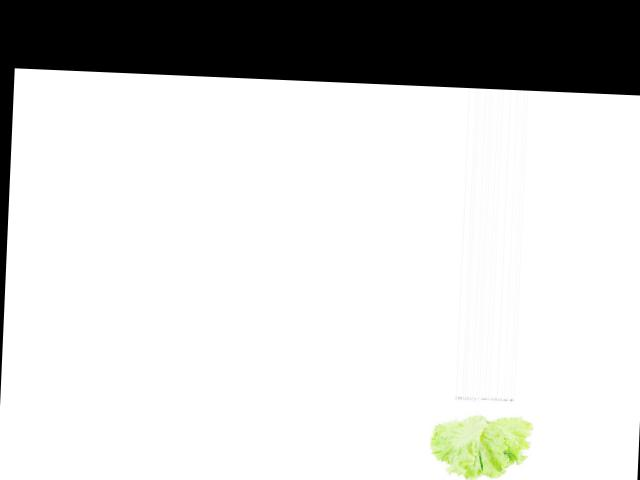lettuce: (426, 399, 534, 480)
